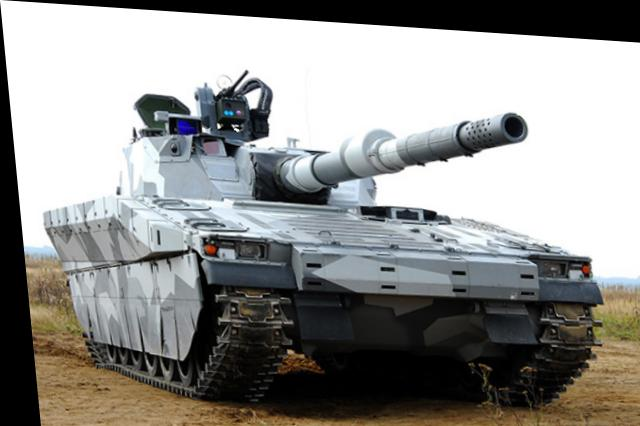tank: (42, 106, 610, 406)
